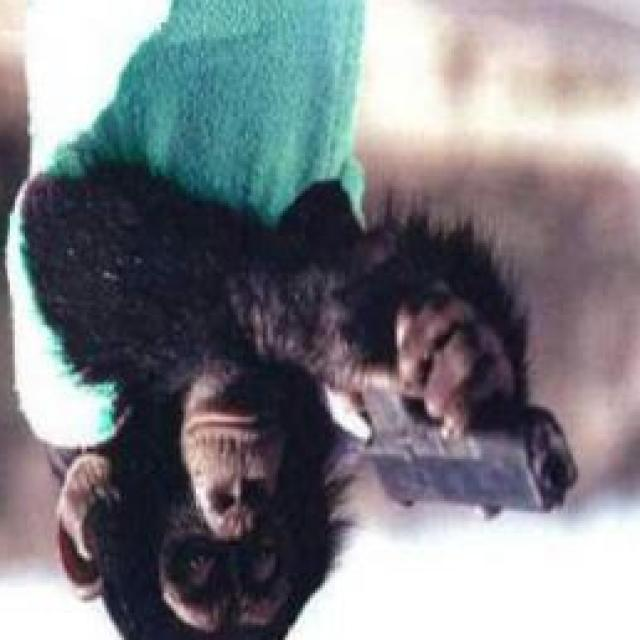pistol: (355, 376, 578, 518)
